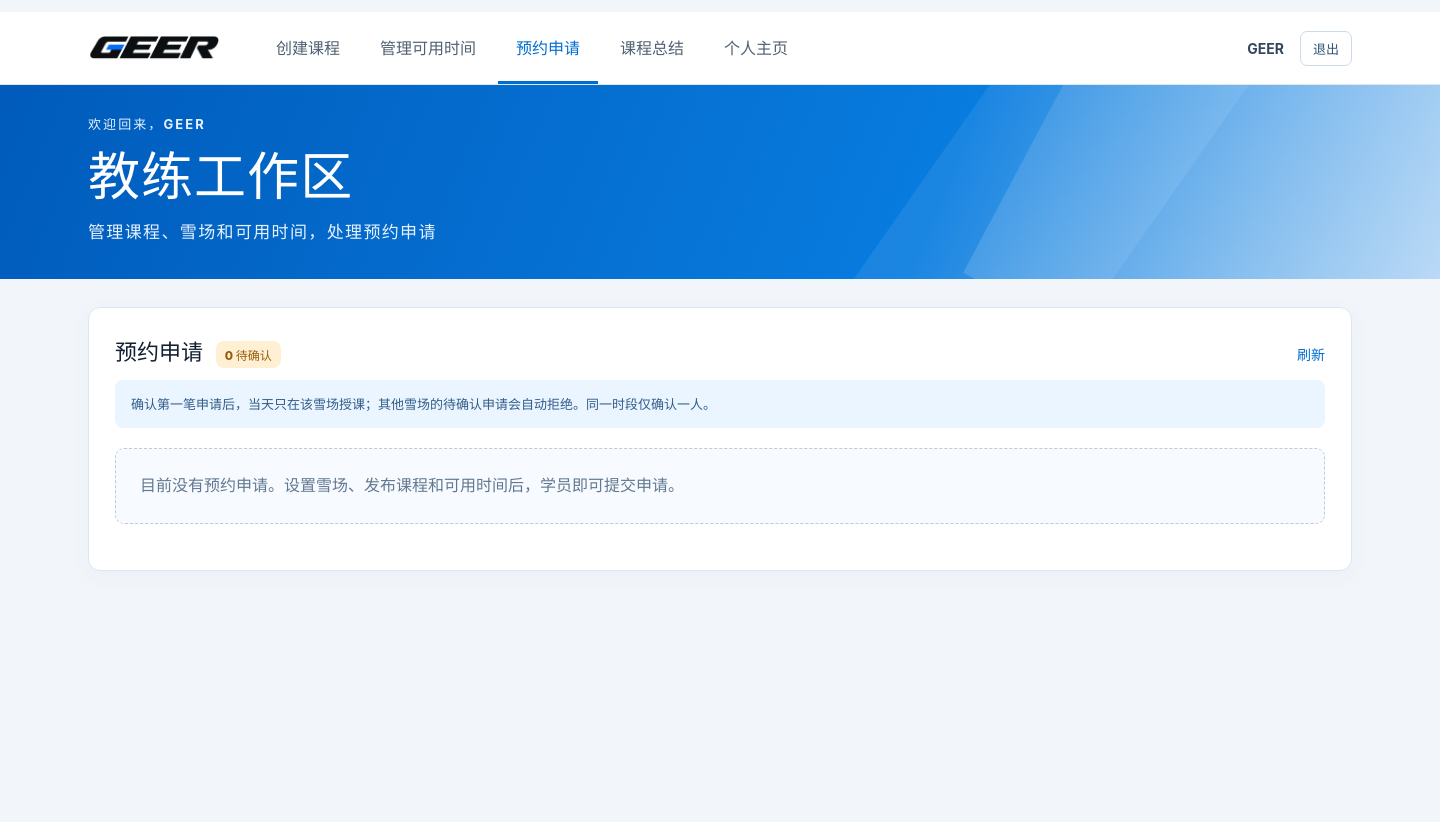
Test: removes courses only after successful archiving and shows an empty state after the last published course
What coordinates should you click on to do the following:
click the button "创建课程"
I would click on:
 (308, 48)
Its box is [258, 12, 358, 84].
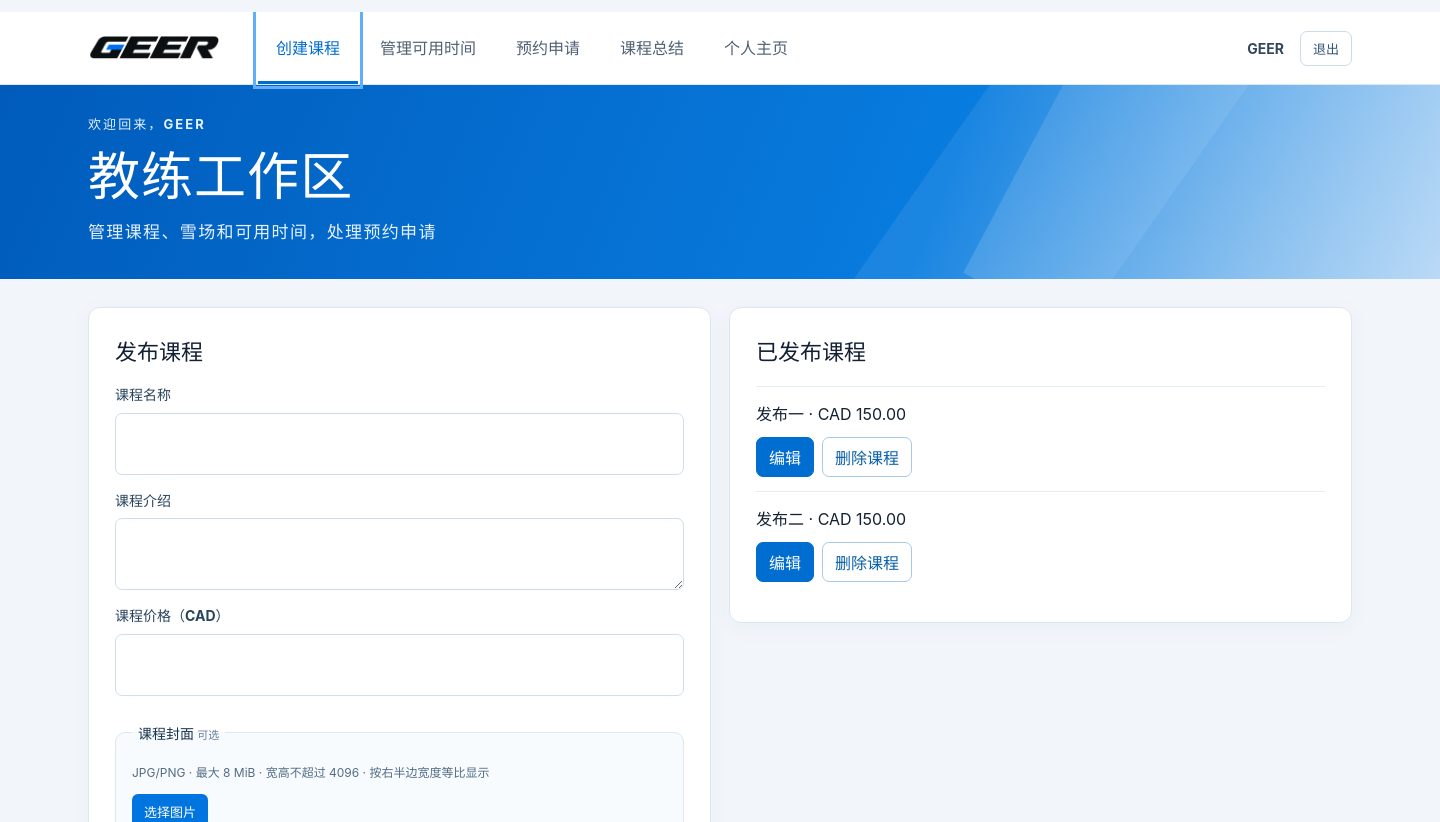
Check: the text "发布一" is shown, box [756, 404, 804, 424]
What coordinates should you click on to do the following:
click the button "删除课程" below "发布一"
I would click on:
 (867, 457)
Its box is [822, 437, 912, 477].
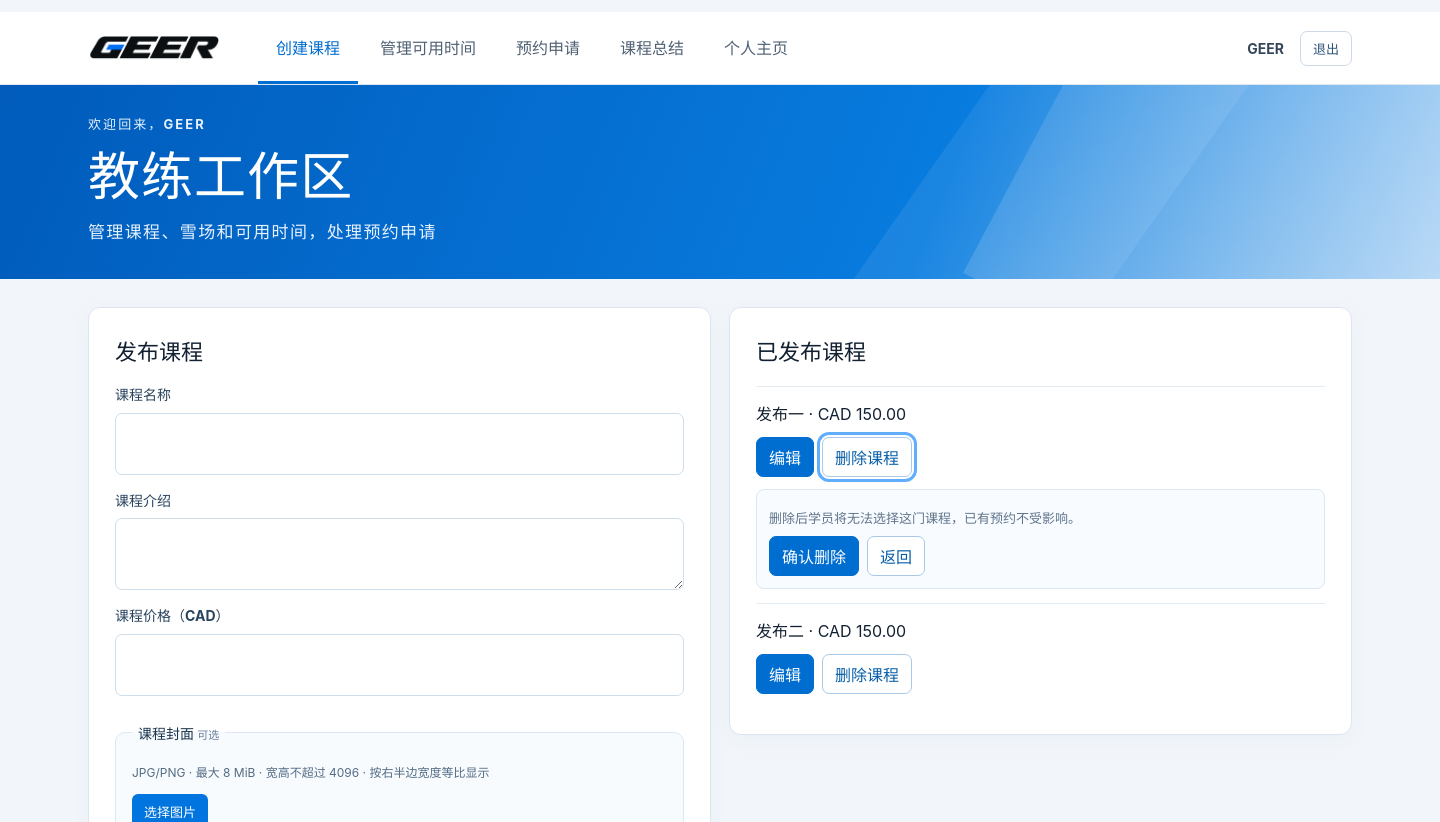
What coordinates should you click on to do the following:
click the button "确认删除"
I would click on:
 (814, 556)
Its box is [769, 536, 859, 576].
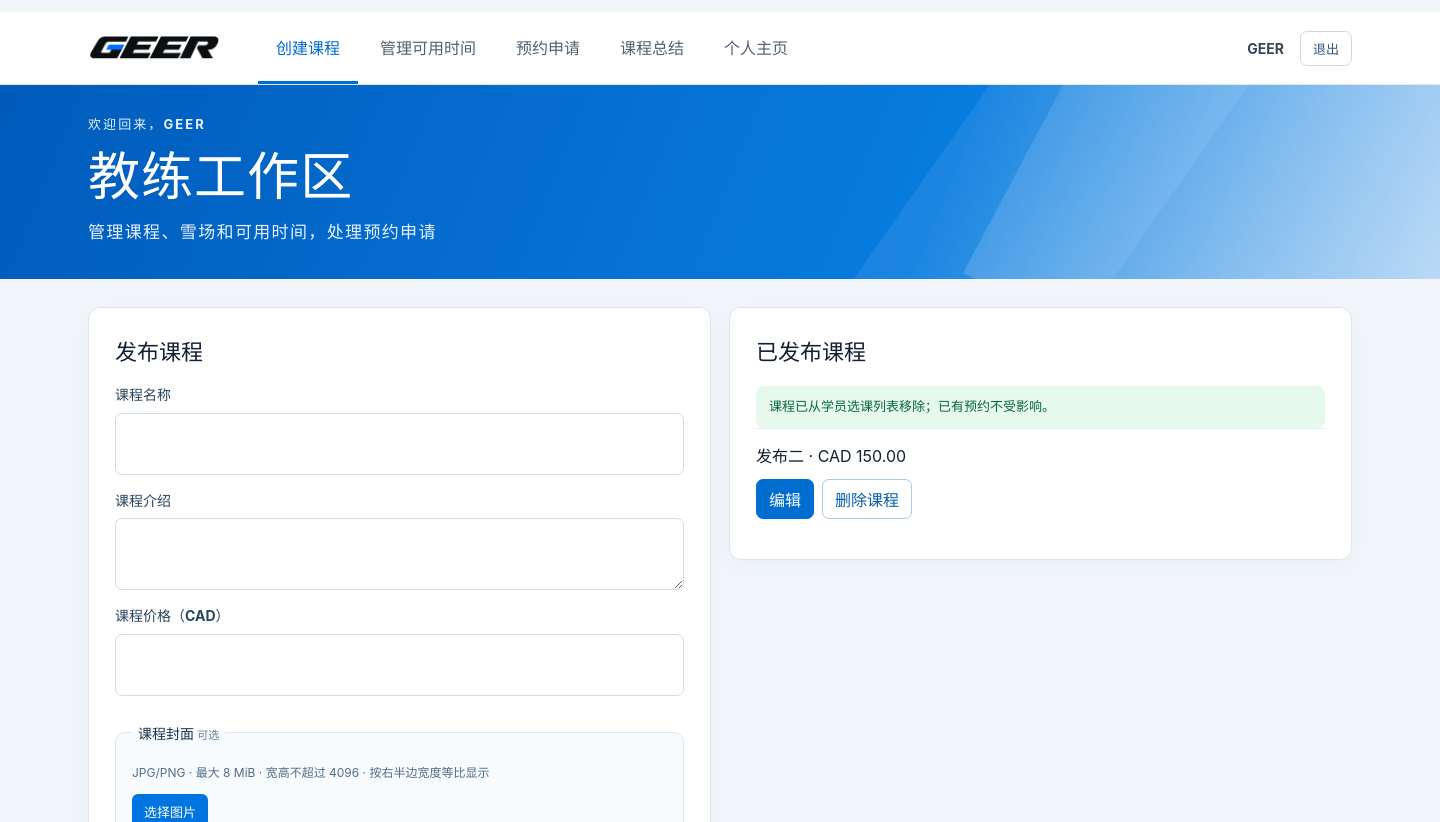
Check: the text "课程已从学员选课列表移除；已有预约不受影响。" is shown, box [756, 386, 1325, 428]
What coordinates should you click on to do the following:
click the button "删除课程"
I would click on:
 (867, 498)
Its box is [822, 478, 912, 518].
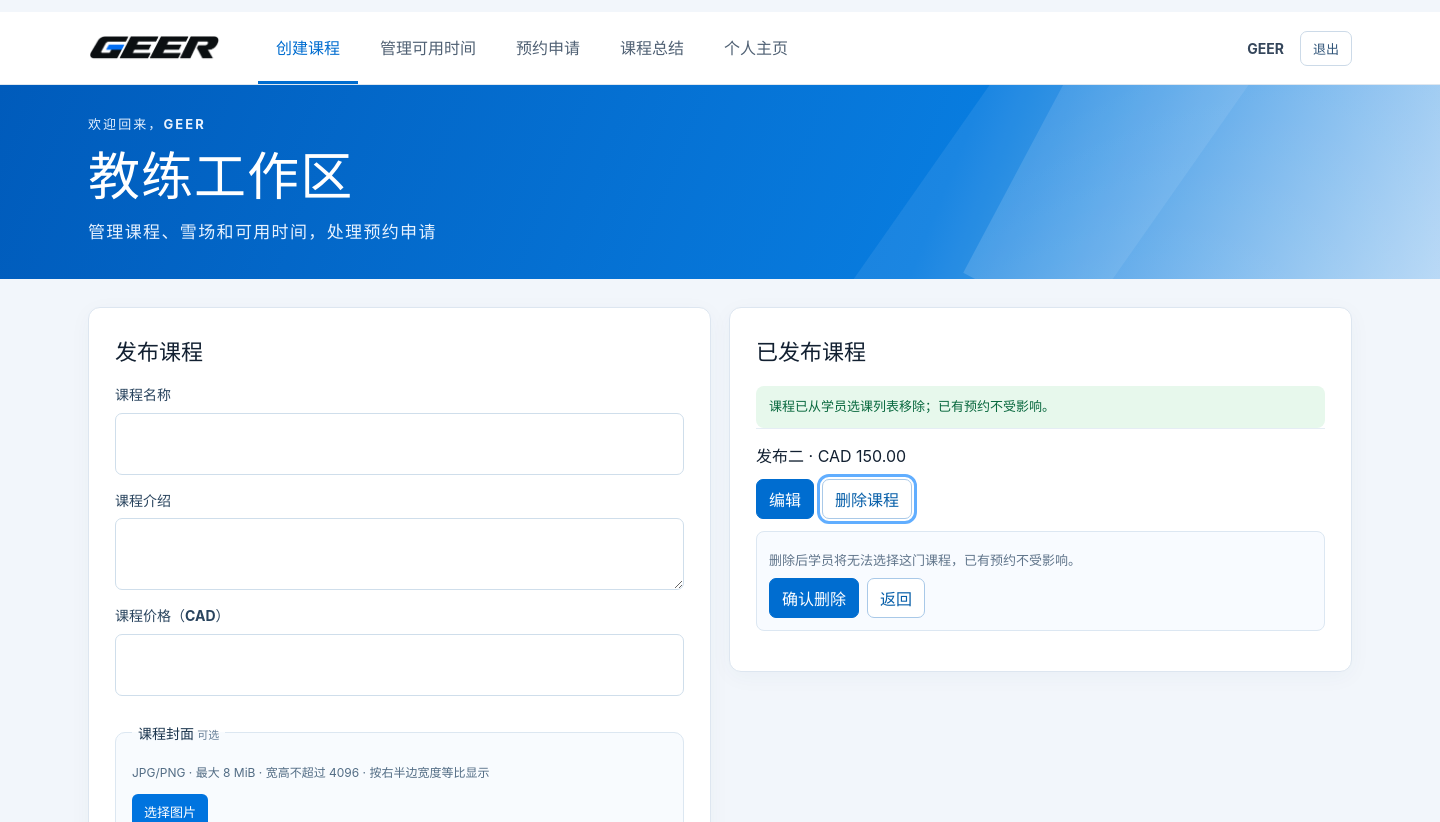
What coordinates should you click on to do the following:
click the button "确认删除"
I would click on:
 (814, 598)
Its box is [769, 578, 859, 618].
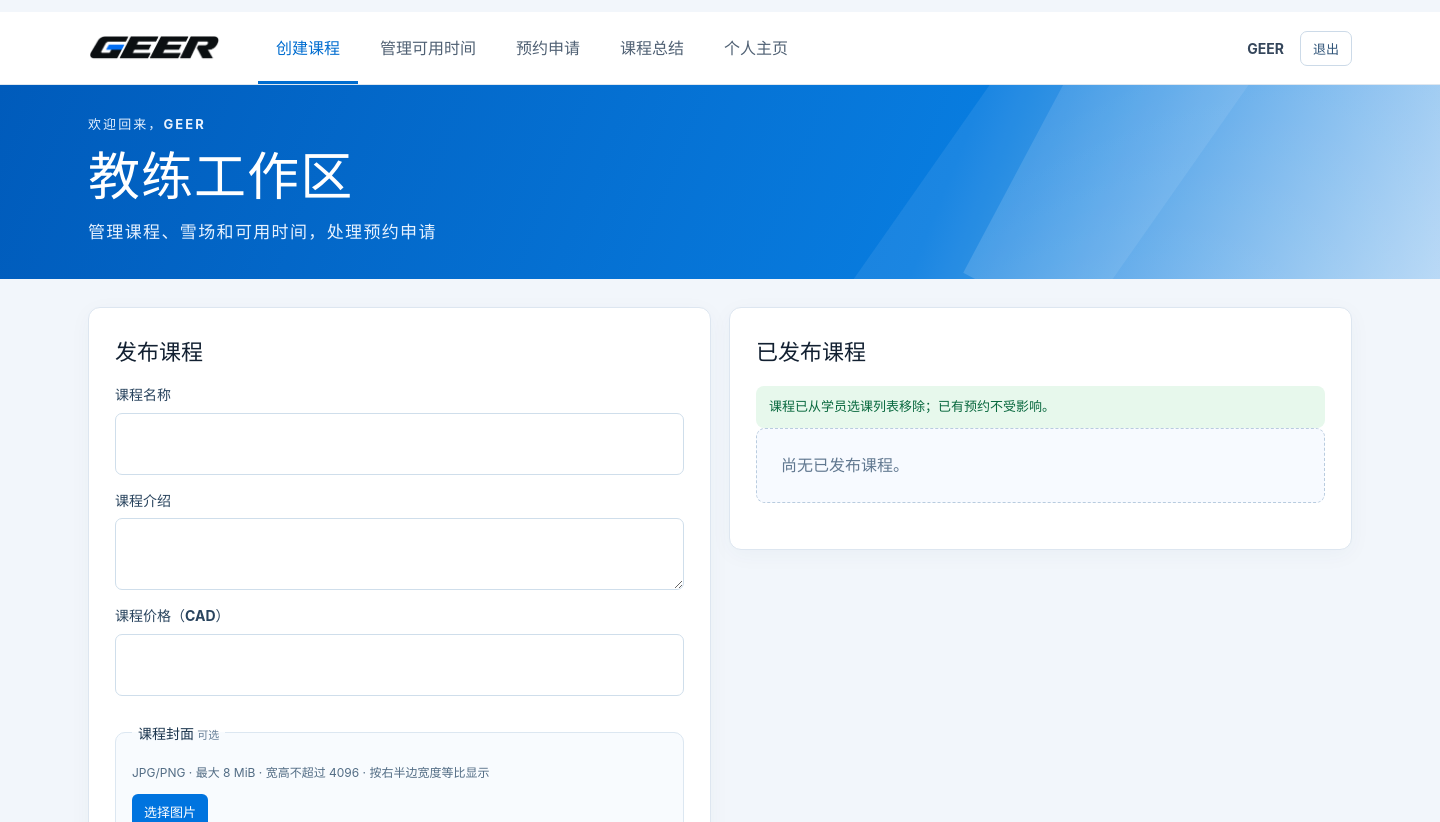
Check: the text "尚无已发布课程。" is shown, box [756, 428, 1325, 503]
